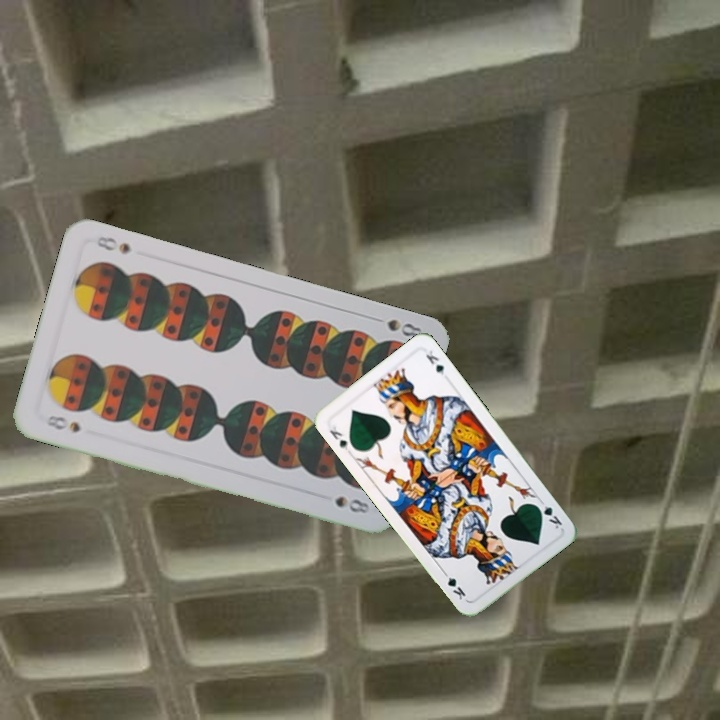GK: (531, 496, 565, 532), (325, 420, 352, 453)
S8: (367, 312, 424, 340), (41, 411, 83, 435)
